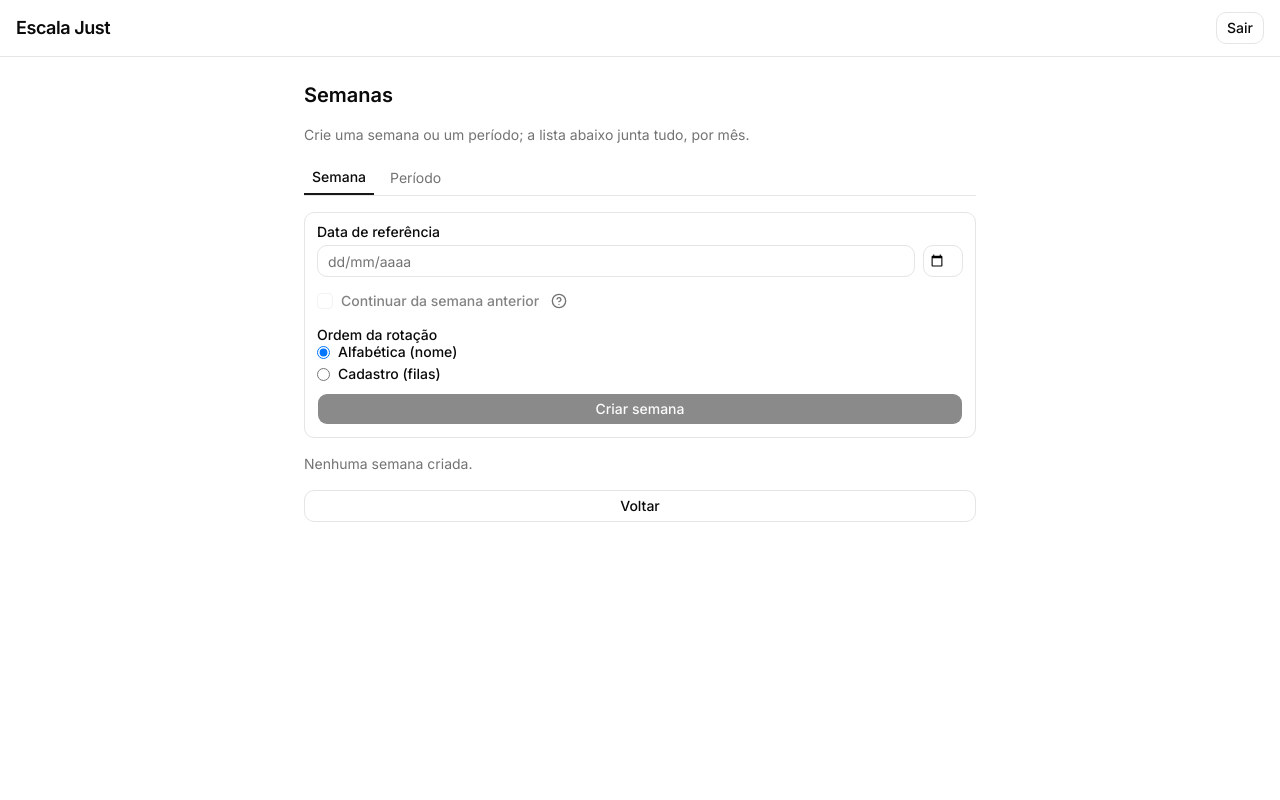
Test: guardas de rota › editor vê o período na aba de Semanas
Expected: the heading "Semanas" is shown, [304, 83, 393, 107]
Click the tab "Período" at [416, 178], box [382, 161, 449, 195]
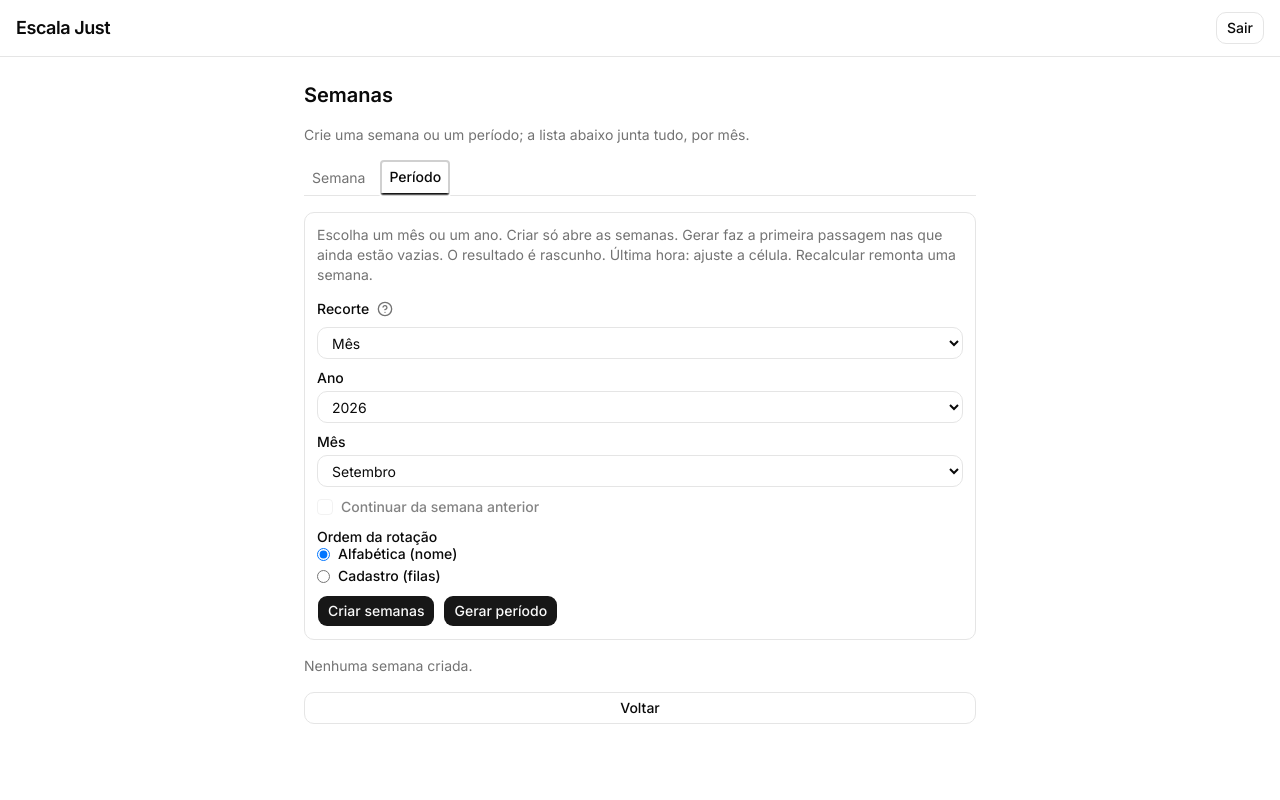
Now the dropdown labelled "Recorte" is shown, box [317, 327, 963, 359]
Now the button "Criar semanas" is shown, box [317, 595, 436, 627]
Now the button "Gerar período" is shown, box [444, 595, 558, 627]
